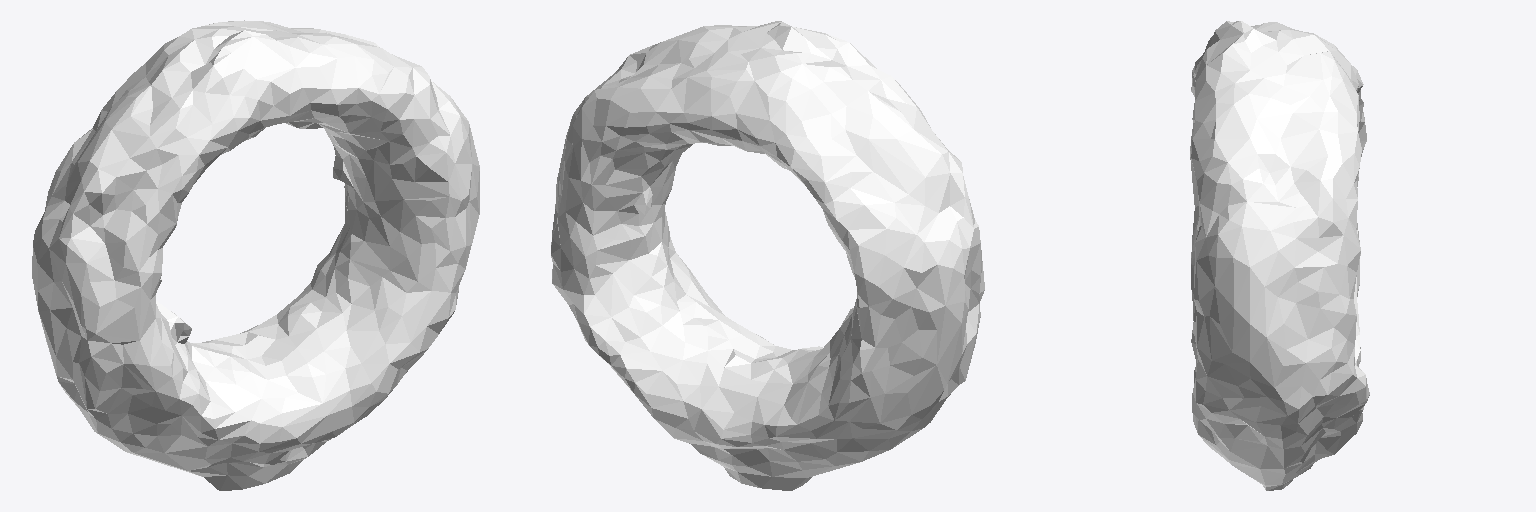
robot.urdf — atb1_nut-m12:
<?xml version="0.0" ?>
<robot name="atb1_nut-m12">
  <link name="baseLink">
    <contact>
      <friction_anchor/>
      <lateral_friction value="0.8"/>
      <spinning_friction value="0.001"/>
      <rolling_friction value="0.001"/>
      <contact_cfm value="0.0"/>
      <contact_erp value="0.2"/>
    </contact>
    <inertial>
       <origin rpy="0 0 0" xyz="0 0 0"/>
       <mass value="0.01"/>
       <inertia ixx="1e-3" ixy="0" ixz="0" iyy="1e-3" iyz="0" izz="1e-3"/>
    </inertial>
    <visual>
      <origin rpy="0 0 0" xyz="0 0 0"/>
      <geometry>
        <mesh filename="obj/fused_model.obj" scale="1 1 1"/>
      </geometry>
      <material name="white">
        <color rgba="1. 1. 1. 1."/>
      </material>
    </visual>
    <collision>
      <origin rpy="0 0 0" xyz="0 0 0"/>
      <geometry>
        <mesh filename="obj/fused_model.obj" scale="1 1 1"/>
      </geometry>
    </collision>
  </link>
</robot>

--- Render facts (derived) ---
3 views of the same robot in one strip: view 1: azimuth 30°, elevation 25°; view 2: azimuth 150°, elevation 25°; view 3: azimuth 270°, elevation 25° (orthographic).
Robot: atb1_nut-m12 — 1 links, 0 joints (none); root link baseLink; default pose: every joint at zero.
Visible links, largest first — view 1: baseLink; view 2: baseLink; view 3: baseLink.
Link boxes in pixels (left/top/right/bottom): baseLink: left=32, top=20, right=479, bottom=490; baseLink: left=551, top=21, right=984, bottom=490; baseLink: left=1190, top=21, right=1369, bottom=490.
Bounding box of the posed robot: 0.0216 × 0.0083 × 0.0223 m (x, y, z).
1 mesh visuals loaded from 1 distinct referenced files (1 OBJ).
